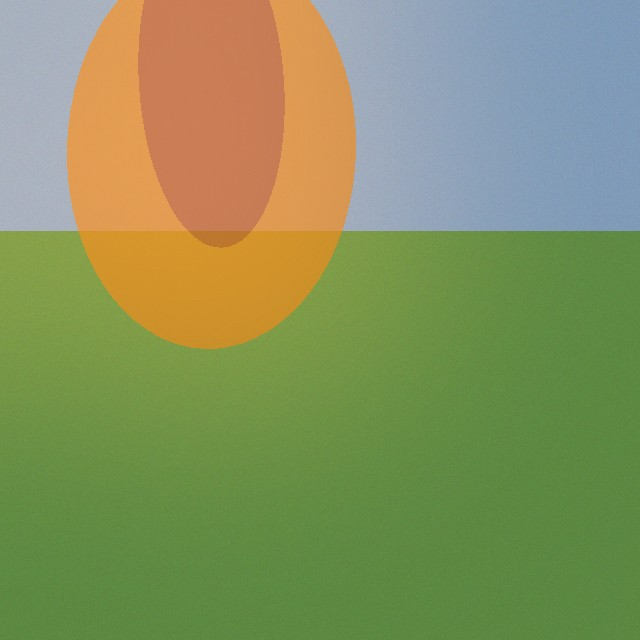fire: (60, 84, 370, 310)
